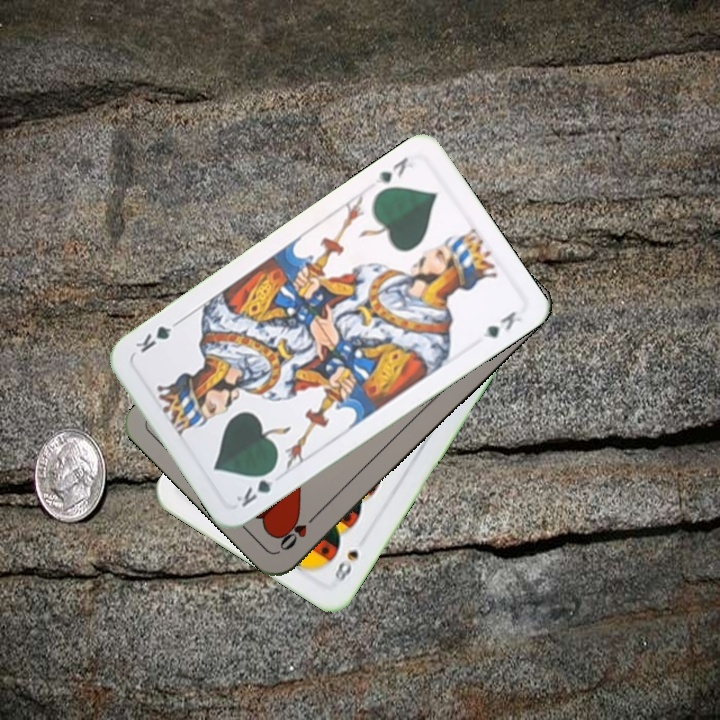GK: (232, 464, 279, 510), (371, 153, 417, 187)
HO: (275, 508, 322, 554)
S8: (330, 545, 362, 585)
